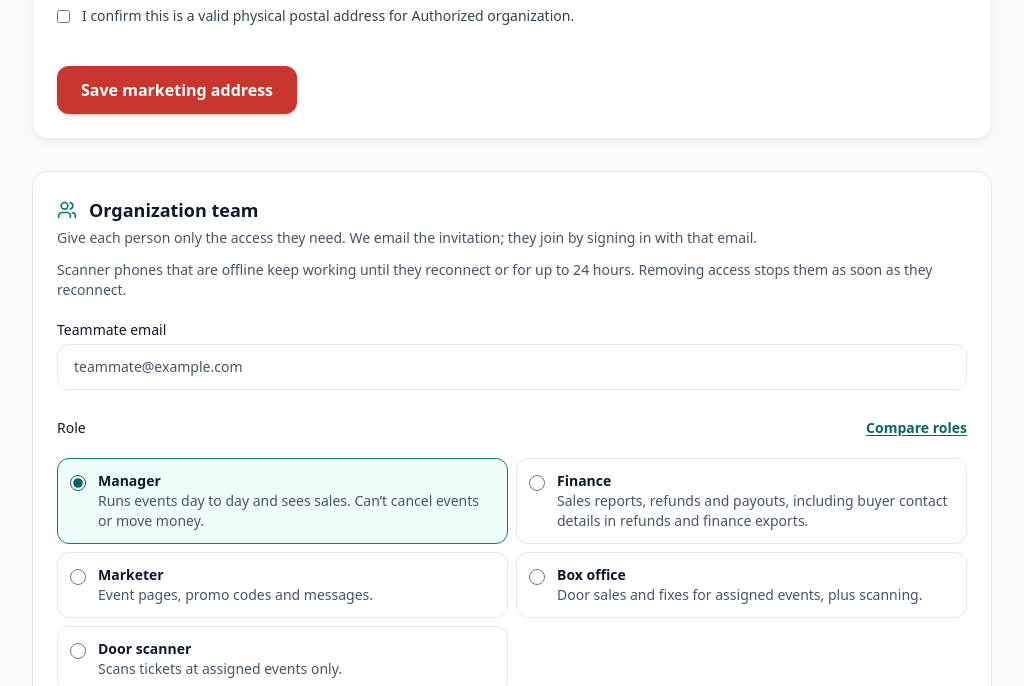
Test case: current organization settings authorization withdrawal › retains the invitation draft for a non-permission provider outage
(page scrolled)
Type "retained@example.invalid" into the field labelled "Teammate email".
click(512, 367); type("retained@example.invalid")  # box [57,344,967,390]
(page scrolled)
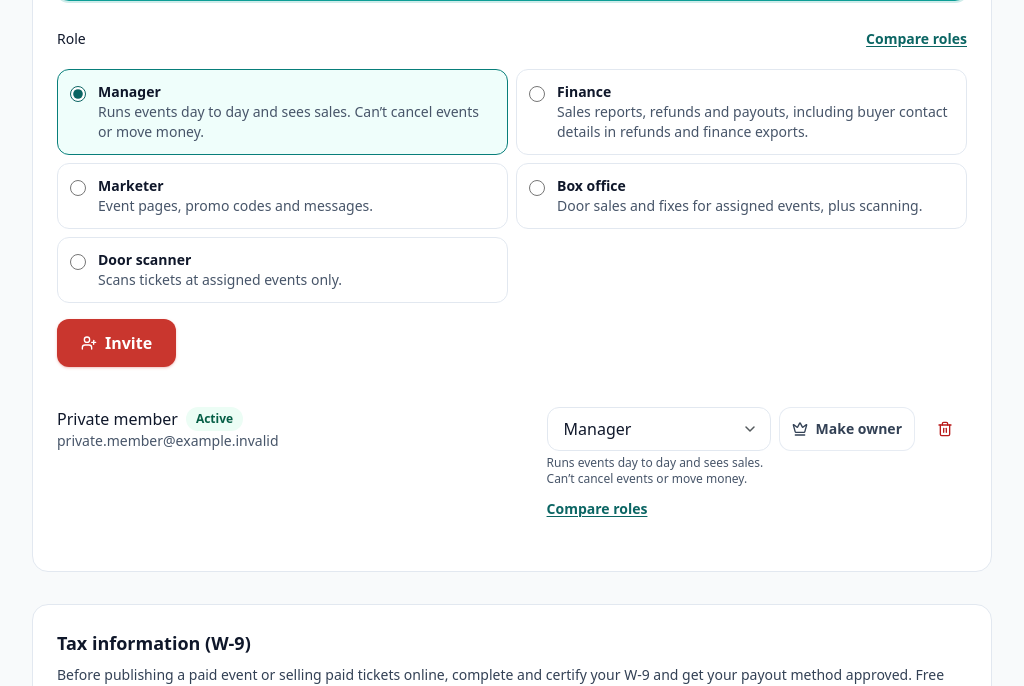
Click the button "Invite".
click(117, 343)  # box [57,319,176,367]
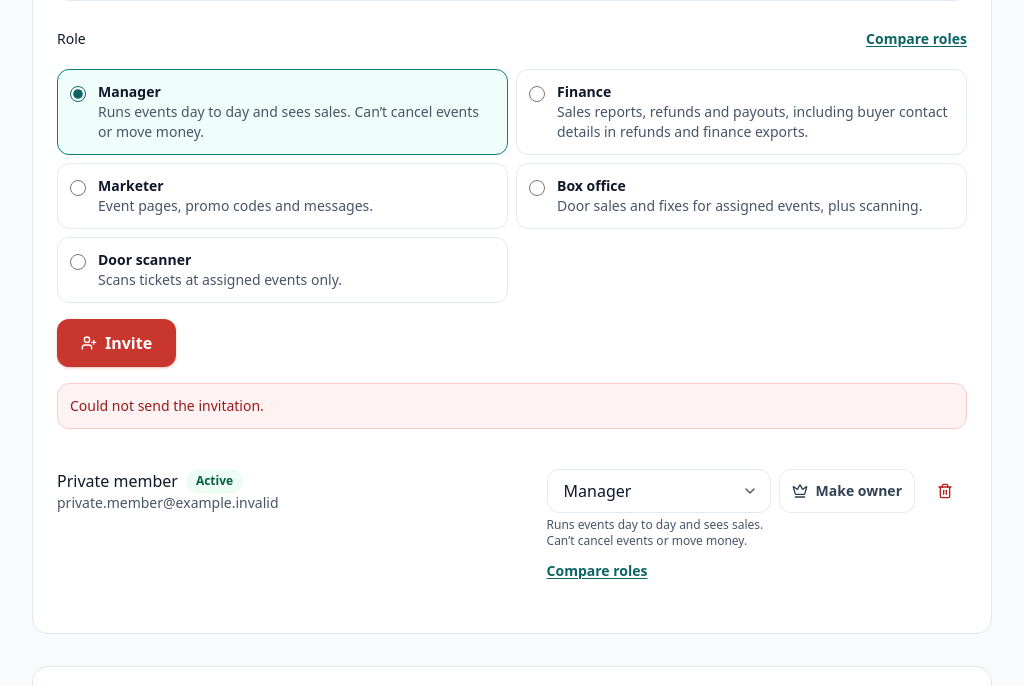
Check: the text "Private member" is shown, box [57,469,178,493]
Check: the message "Could not send the invitation." is shown, box [57,383,967,429]
